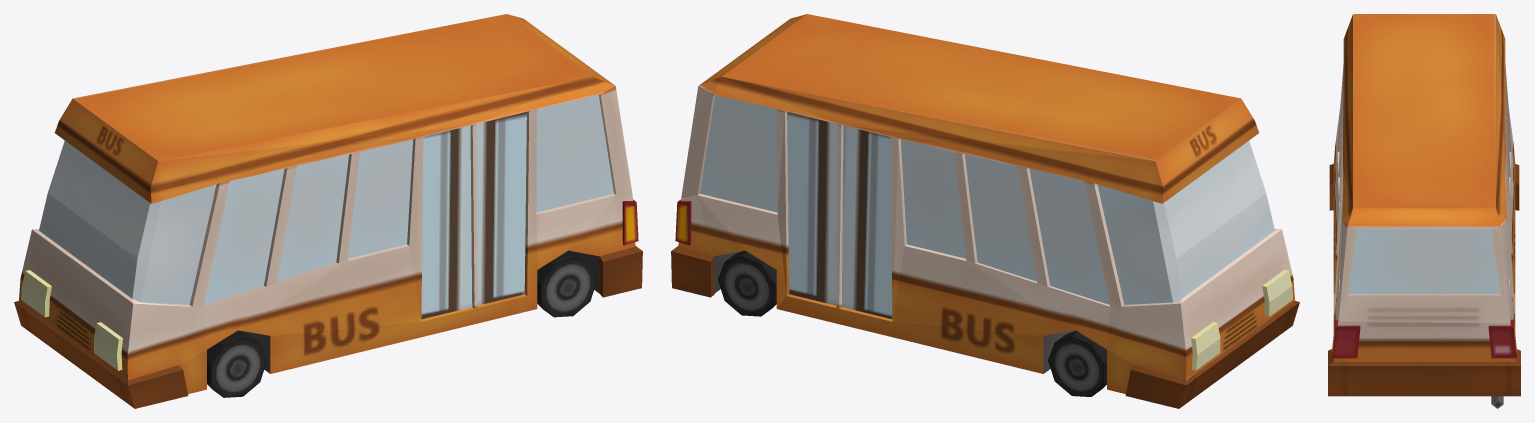
File: bus.FBX
The picture shows the model from 3 angles, left to right: view 1: azimuth 30°, elevation 25°; view 2: azimuth 150°, elevation 25°; view 3: azimuth 270°, elevation 25°; orthographic projection. The views are drawn at different scales.
Parts seen in each view (by area): view 1: Bus002; view 2: Bus002; view 3: Bus002.
Part boxes in pixels (bbox=[...]): Bus002: bbox=[14, 14, 642, 408]; Bus002: bbox=[671, 14, 1299, 408]; Bus002: bbox=[1328, 14, 1520, 408].
Bounding box in the file's own units: 435 × 195 × 166.
